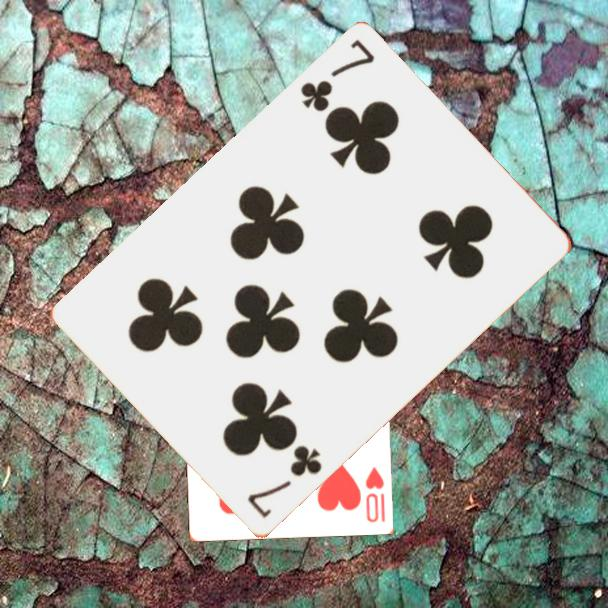c07: (244, 442, 326, 522), (296, 36, 378, 115)
h10: (361, 463, 388, 525)
